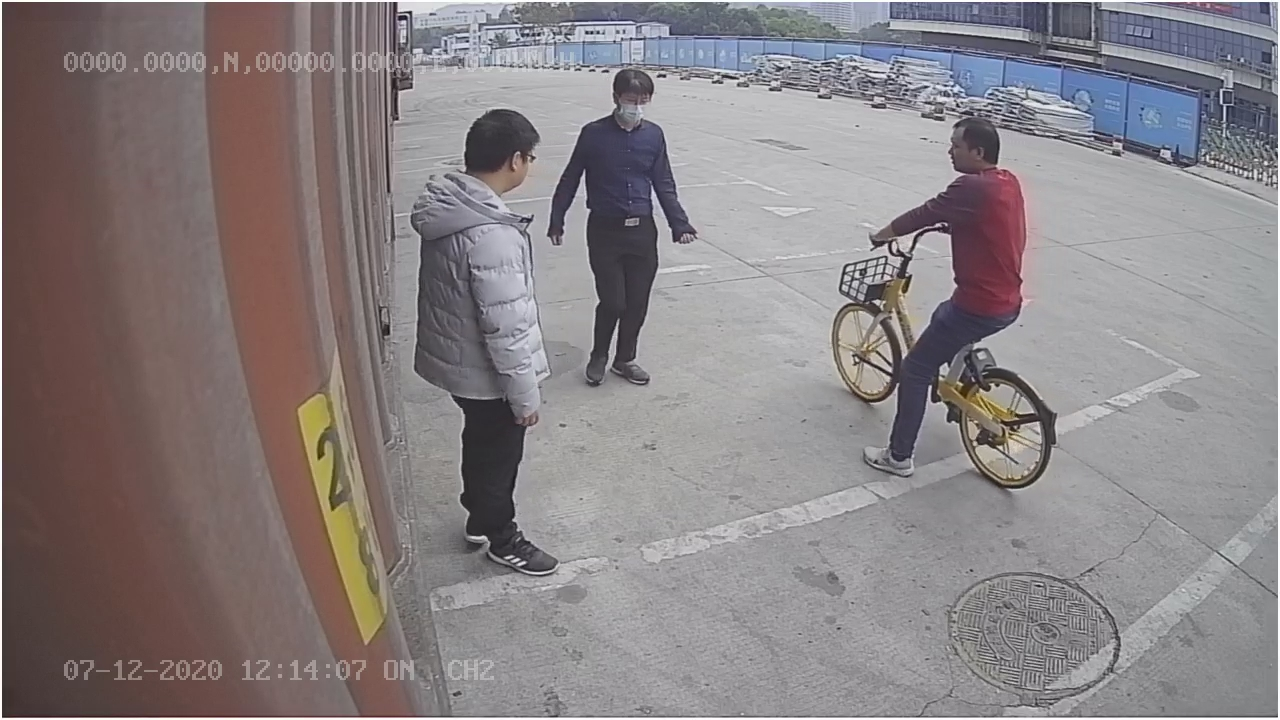person: (416, 95, 560, 579)
